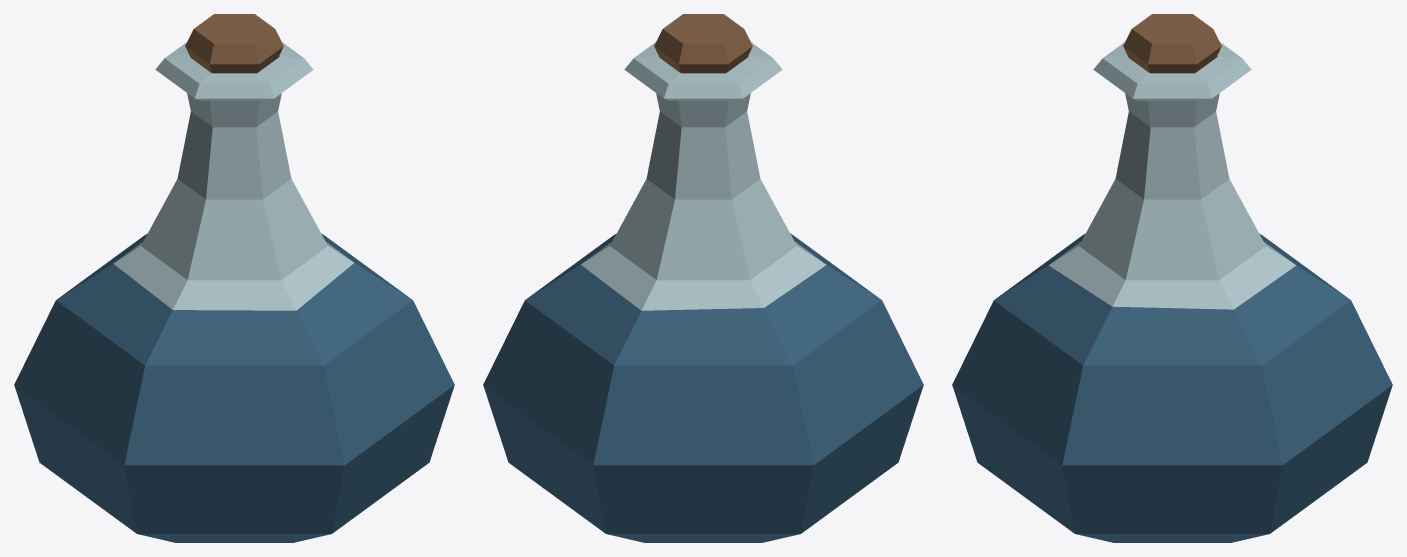
The model's file is SM_Magic_PotionBottle_Blue.fbx.
3 renders of one model, left to right at view 1: azimuth 30°, elevation 25°; view 2: azimuth 150°, elevation 25°; view 3: azimuth 270°, elevation 25°, orthographic.
Visible parts, largest first — view 1: SM_Magic_PotionBottle_Blue; view 2: SM_Magic_PotionBottle_Blue; view 3: SM_Magic_PotionBottle_Blue.
Part boxes in pixels (x1=…): SM_Magic_PotionBottle_Blue: x1=14, y1=14, x2=454, y2=542; SM_Magic_PotionBottle_Blue: x1=483, y1=14, x2=923, y2=542; SM_Magic_PotionBottle_Blue: x1=952, y1=14, x2=1392, y2=542.
Size of what is drawn, in the model's own units: 0.1872 by 0.2161 by 0.255.
1 material, 1 textured.
